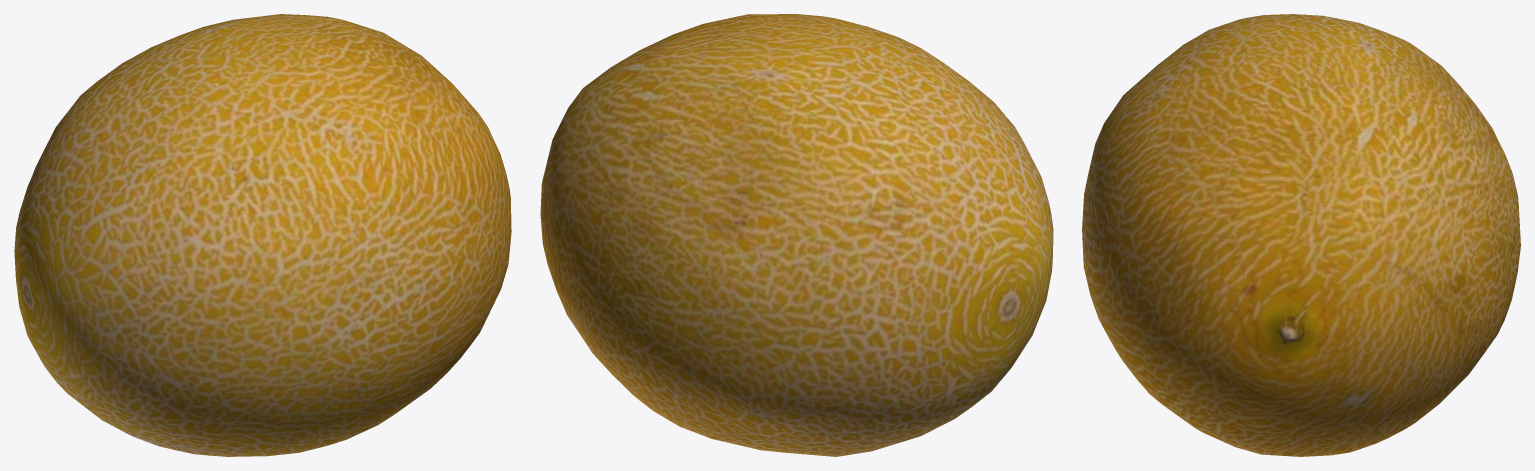
The model's file is melon.glb.
3 views of the same model, side by side, from view 1: azimuth 30°, elevation 25°; view 2: azimuth 150°, elevation 25°; view 3: azimuth 270°, elevation 25° (orthographic). The views are drawn at different scales.
Parts seen in each view (by area): view 1: uifgadahw_LOD0_TIER2_000; view 2: uifgadahw_LOD0_TIER2_000; view 3: uifgadahw_LOD0_TIER2_000.
Boxes of the visible parts, <box> form: uifgadahw_LOD0_TIER2_000: <box>14,14,511,456</box>; uifgadahw_LOD0_TIER2_000: <box>540,14,1053,456</box>; uifgadahw_LOD0_TIER2_000: <box>1082,14,1520,456</box>.
Size of the model in its own units: 0.0951 by 0.077 by 0.0794.
1 material, 1 textured.
